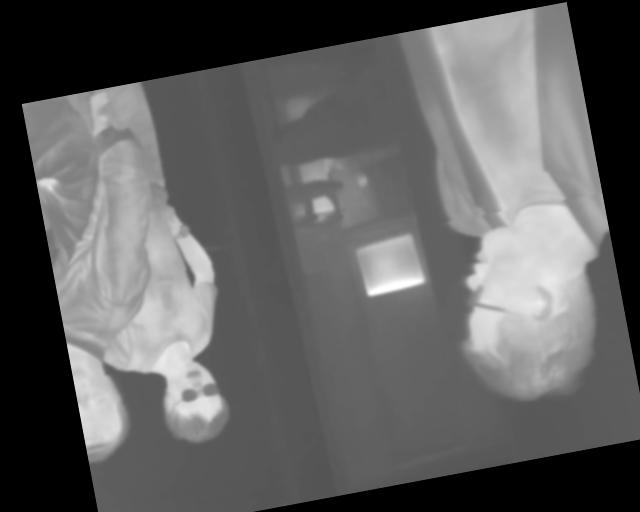face: (156, 356, 233, 448)
